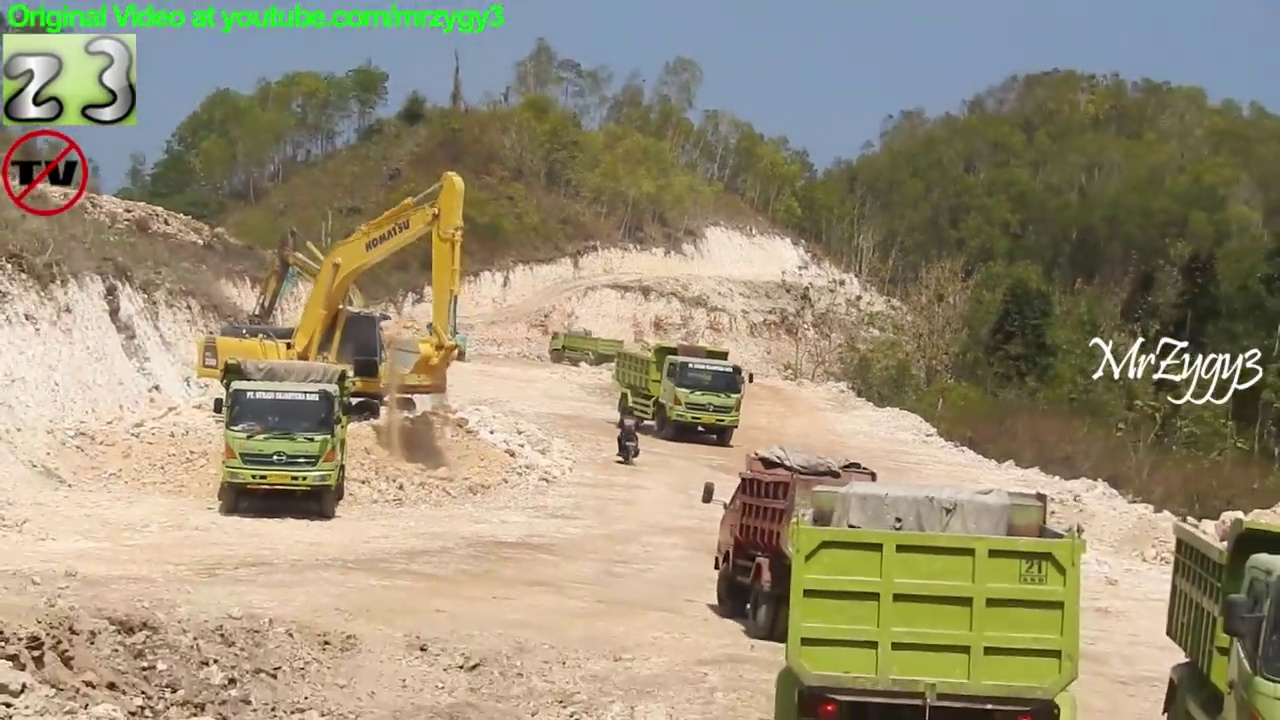excavator: (193, 169, 471, 431), (222, 223, 424, 419), (238, 244, 402, 379), (420, 279, 472, 365)
truck: (771, 476, 1094, 720), (700, 447, 924, 644), (1161, 490, 1279, 720), (213, 357, 367, 520), (615, 343, 754, 448), (547, 323, 627, 372)
